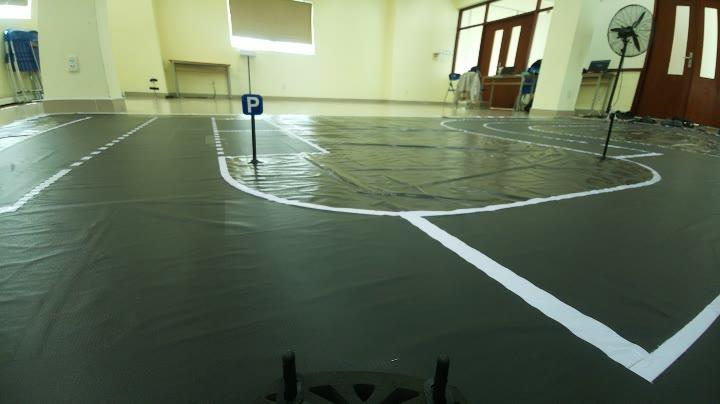parking: (240, 86, 270, 122)
